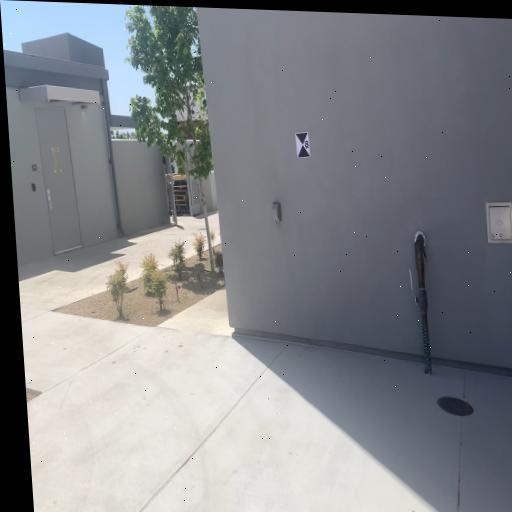target8: (295, 131, 311, 159)
